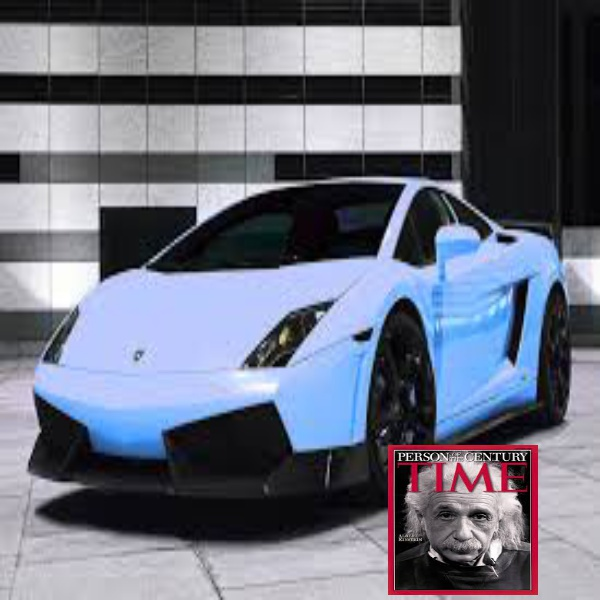time_cover: (383, 432, 547, 598)
